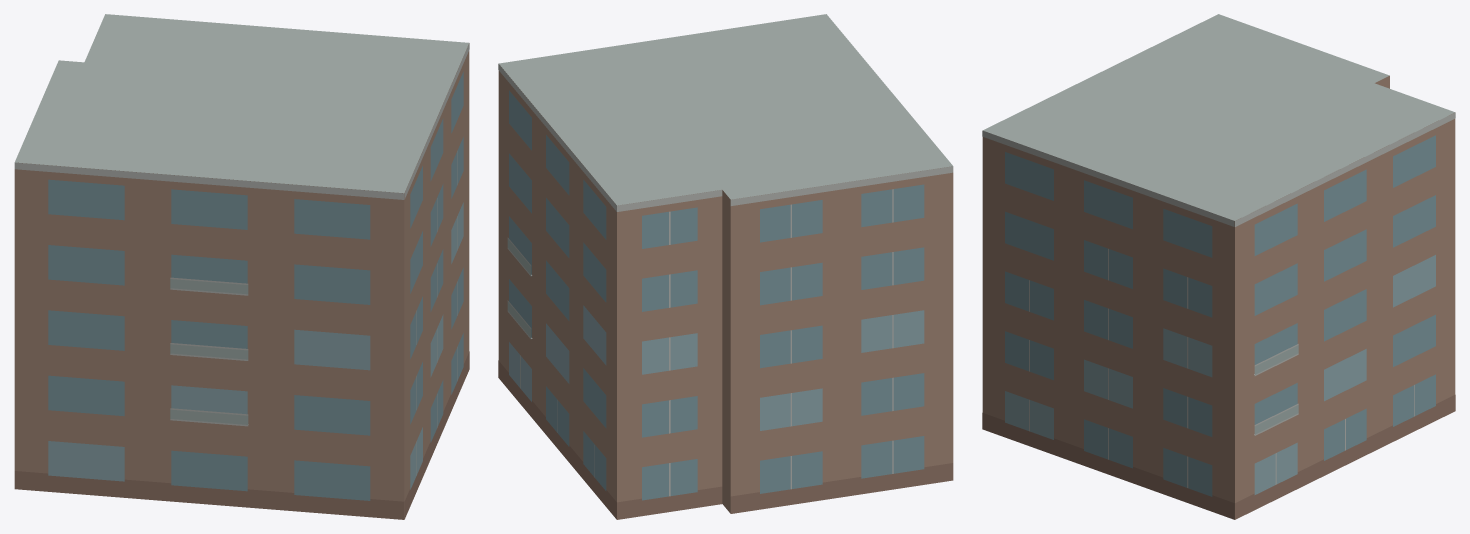
File: survey-upis-32687282.glb
3 renders of one model, left to right at view 1: azimuth 30°, elevation 25°; view 2: azimuth 150°, elevation 25°; view 3: azimuth 270°, elevation 25°, orthographic. The views are drawn at different scales.
Parts seen in each view (by area): view 1: survey-upis-32687282.tmp; view 2: survey-upis-32687282.tmp; view 3: survey-upis-32687282.tmp.
Part boxes in pixels (<box>): survey-upis-32687282.tmp: <box>14,14,469,519</box>; survey-upis-32687282.tmp: <box>498,14,953,519</box>; survey-upis-32687282.tmp: <box>982,14,1455,519</box>.
Size of the model in its own units: 17.46 by 11.75 by 16.86.
